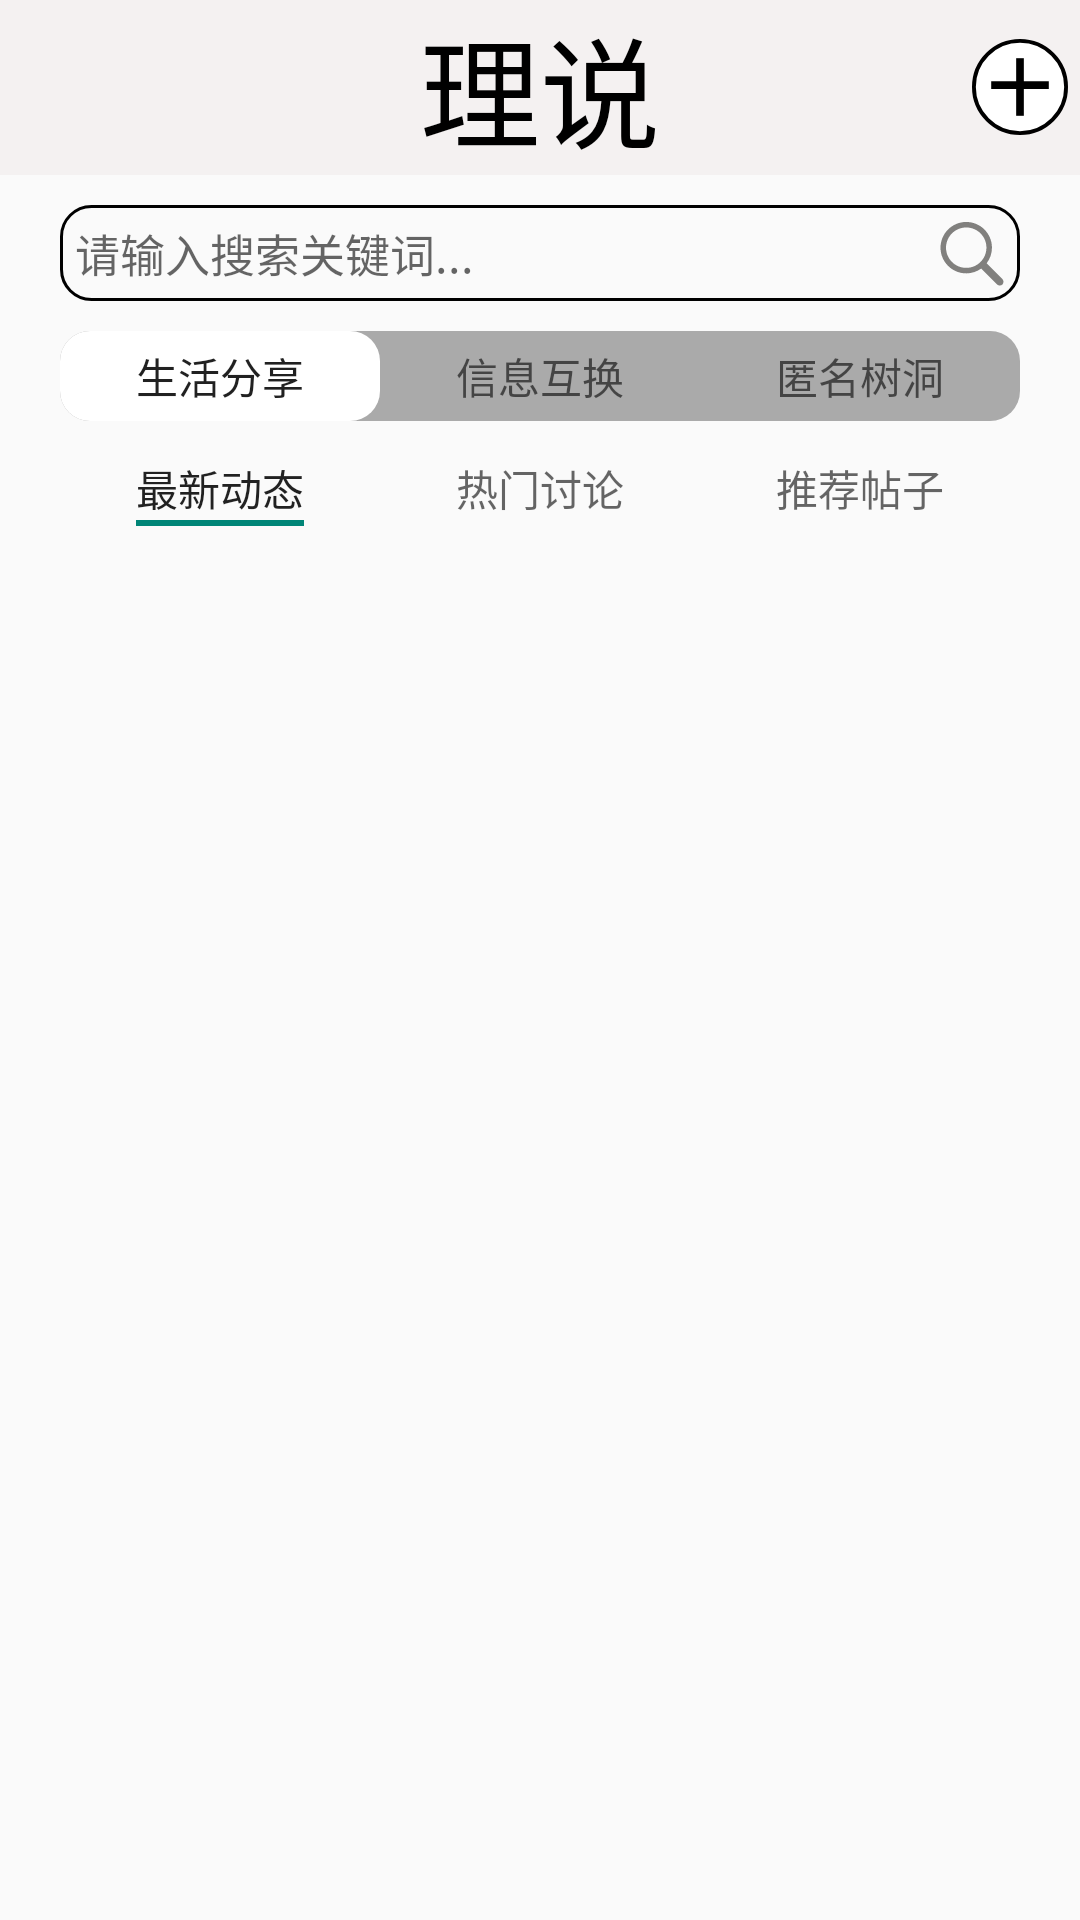

Icon click points for this 1080px×1920px phone screenshot, format (x=x, y=y):
post add: (x=1020, y=87)
search: (x=972, y=254)
